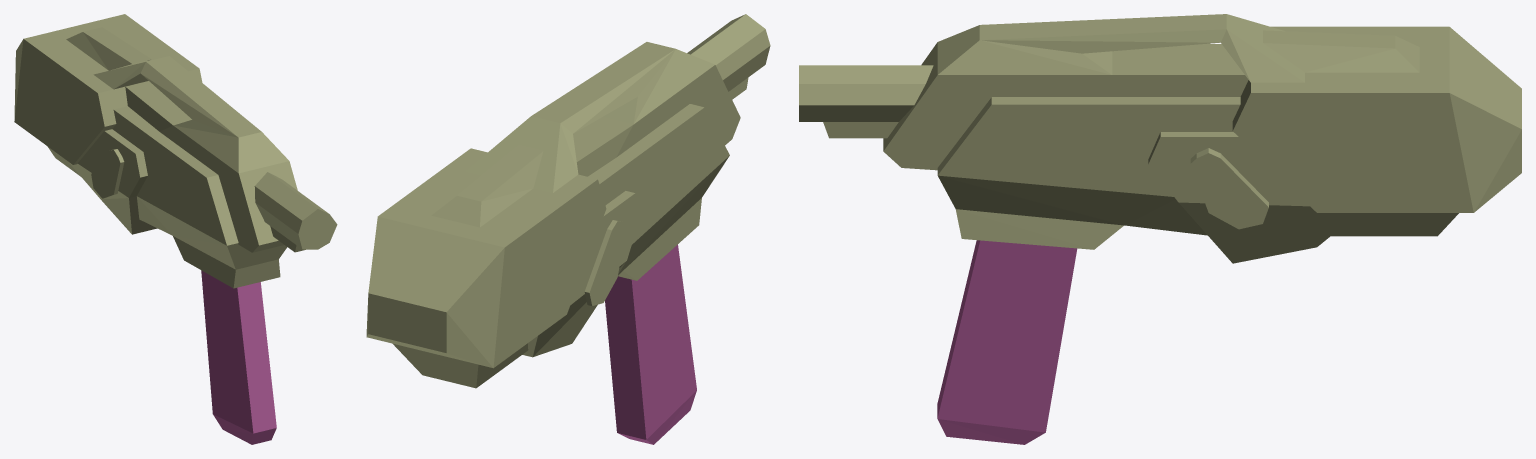
Rendered from Spew1.obj.
3 views of the same model, side by side, from view 1: azimuth 30°, elevation 25°; view 2: azimuth 150°, elevation 25°; view 3: azimuth 270°, elevation 25° (orthographic). The views are drawn at different scales.
Visible parts, largest first — view 1: spew1_rip_spew1; view 2: spew1_rip_spew1; view 3: spew1_rip_spew1.
Boxes of the visible parts, x1,y1,x2,y2 form: spew1_rip_spew1: (14, 14, 337, 444); spew1_rip_spew1: (366, 14, 770, 444); spew1_rip_spew1: (799, 14, 1521, 444).
Bounding box in the file's own units: 0.4046 × 1.19 × 1.87.
